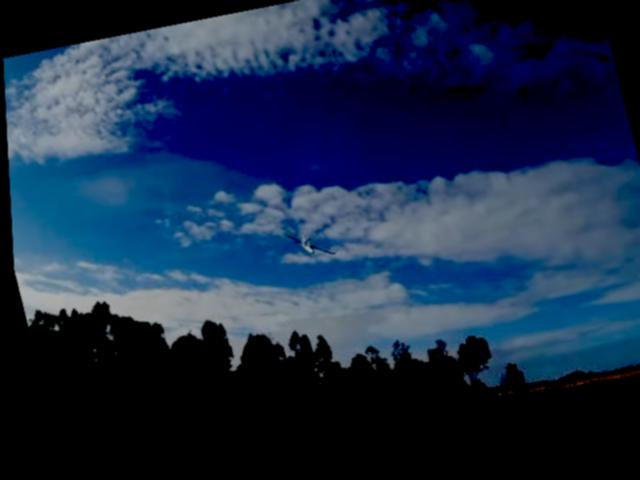uav: (271, 214, 341, 270)
